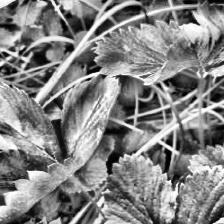Powdery Mildew Leaf: (92, 0, 224, 86), (0, 149, 72, 224)
